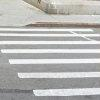Crosswalk: (4, 21, 99, 100)
